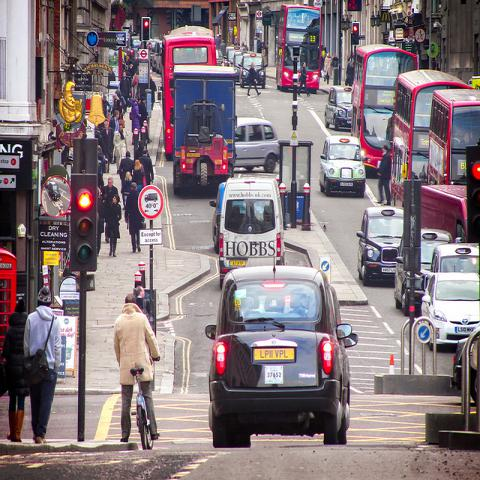bus: (390, 68, 476, 207), (350, 46, 416, 176), (163, 26, 218, 160), (424, 81, 480, 189), (274, 6, 321, 90)
car: (204, 264, 359, 449), (219, 178, 284, 290), (393, 228, 454, 316), (132, 36, 243, 81), (420, 272, 479, 353), (355, 206, 405, 287), (320, 135, 369, 199), (234, 116, 280, 174), (424, 242, 480, 288), (450, 334, 477, 409), (324, 84, 352, 131), (210, 180, 226, 255), (239, 53, 268, 90), (227, 47, 248, 67)
truck: (173, 64, 237, 196)
